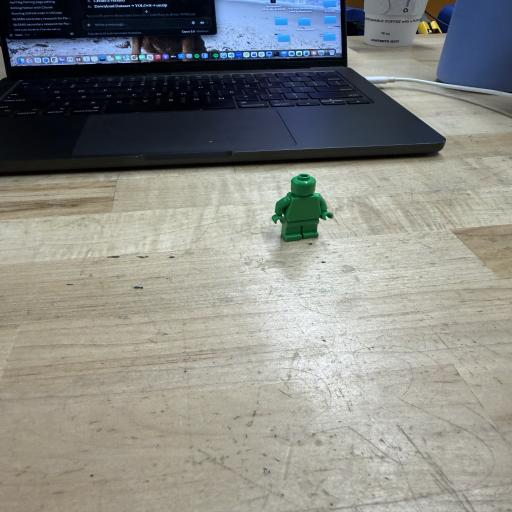green-minifig: (272, 174, 333, 241)
